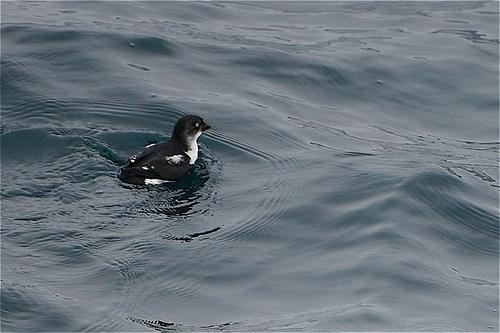bird: (116, 116, 210, 188)
